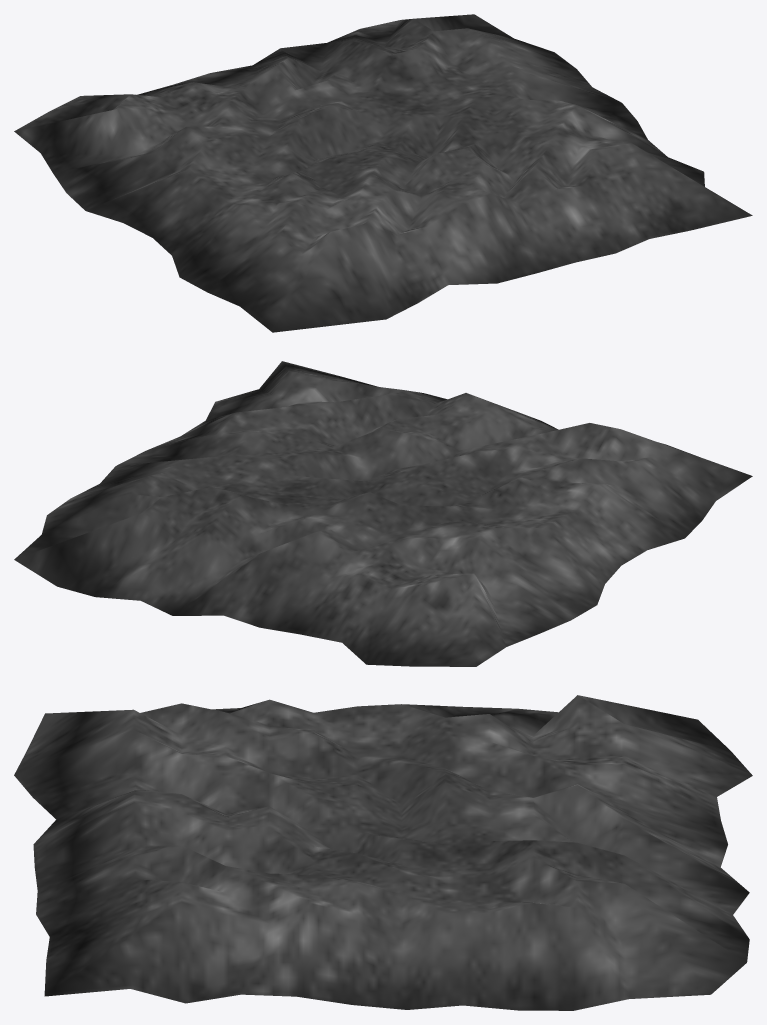
The model's file is Rubble.fbx.
The picture shows the model from 3 angles, top to bottom: view 1: azimuth 30°, elevation 25°; view 2: azimuth 150°, elevation 25°; view 3: azimuth 270°, elevation 25°; orthographic projection. The views are drawn at different scales.
Visible parts, largest first — view 1: Plane; view 2: Plane; view 3: Plane.
Boxes of the visible parts, x1=… form: Plane: x1=14, y1=14, x2=752, y2=332; Plane: x1=14, y1=361, x2=752, y2=666; Plane: x1=14, y1=695, x2=752, y2=1010.
Bounding box in the file's own units: 452 × 45.13 × 465.
